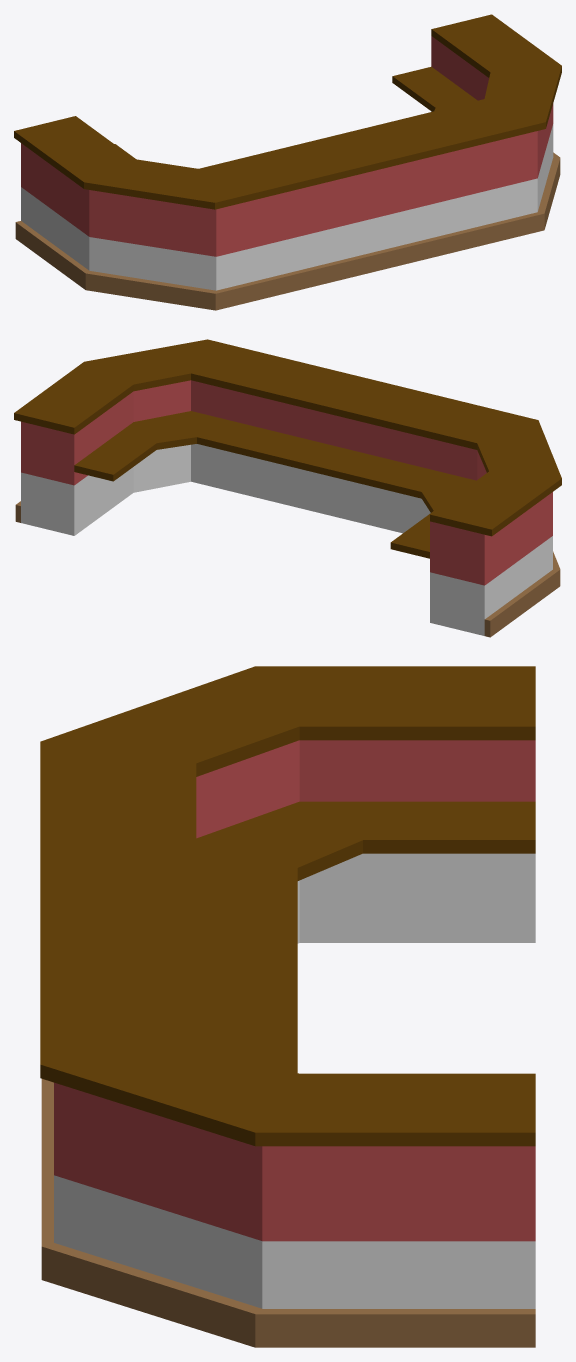
File: reception_desk.fbx
3 views of the same model, one above another, from view 1: azimuth 30°, elevation 25°; view 2: azimuth 150°, elevation 25°; view 3: azimuth 270°, elevation 25° (orthographic). The views are drawn at different scales.
Visible parts, largest first — view 1: H_Reception_Desk; view 2: H_Reception_Desk; view 3: H_Reception_Desk.
Part boxes in pixels (left/top/right/bottom): H_Reception_Desk: left=14, top=14, right=561, bottom=310; H_Reception_Desk: left=14, top=339, right=561, bottom=637; H_Reception_Desk: left=40, top=666, right=535, bottom=1347.
Bounding box in the file's own units: 3125 × 1403 × 676.
